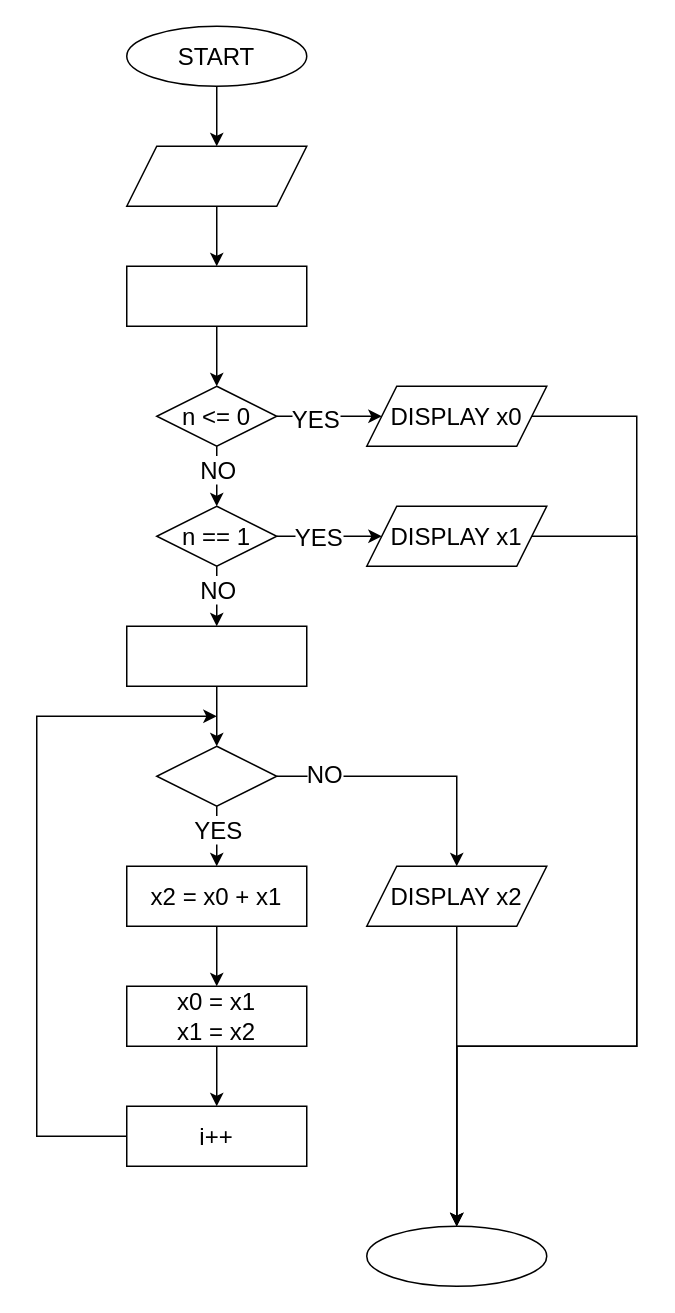
Some shapes in this 675 by 1313 pixel diagram are drawn without their labels. The shapes that lost their labels are listed below. From the top down, each one's centre as x and y in pixels, then its label:
At pixel 216 175: "INPUT n".
At pixel 216 295: "x0 = 0 x1 = 1".
At pixel 216 655: "i = 2".
At pixel 216 775: "i <= n".
At pixel 456 1255: "STOP".
